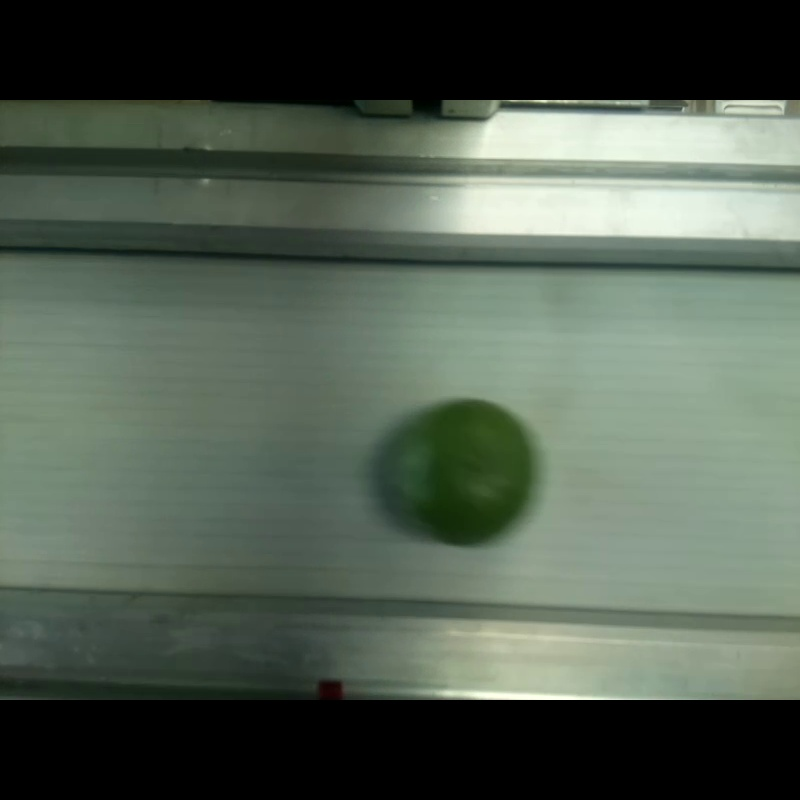lime: (388, 399, 535, 539)
